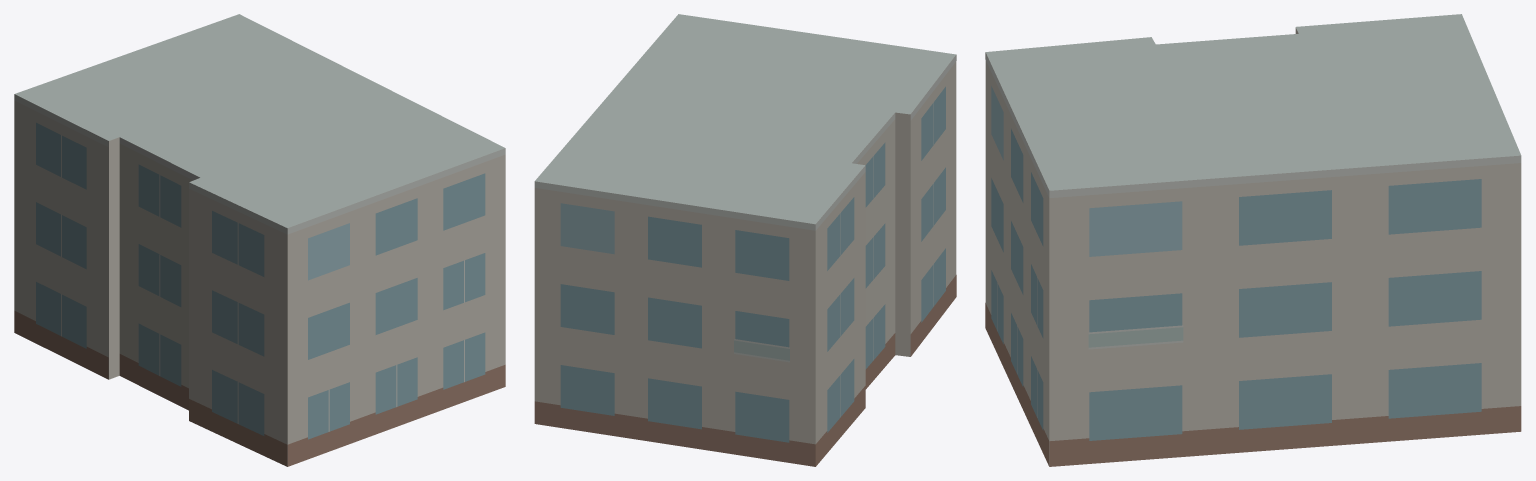
Rendered from survey-upis-32979803.glb.
3 renders of one model, left to right at view 1: azimuth 30°, elevation 25°; view 2: azimuth 150°, elevation 25°; view 3: azimuth 270°, elevation 25°, orthographic. The views are drawn at different scales.
Parts seen in each view (by area): view 1: survey-upis-32979803.tmp; view 2: survey-upis-32979803.tmp; view 3: survey-upis-32979803.tmp.
Part boxes in pixels (<box>): survey-upis-32979803.tmp: <box>14,14,505,466</box>; survey-upis-32979803.tmp: <box>534,14,956,466</box>; survey-upis-32979803.tmp: <box>985,14,1521,466</box>.
Bounding box in the file's own units: 12.58 × 9.15 × 16.11.
